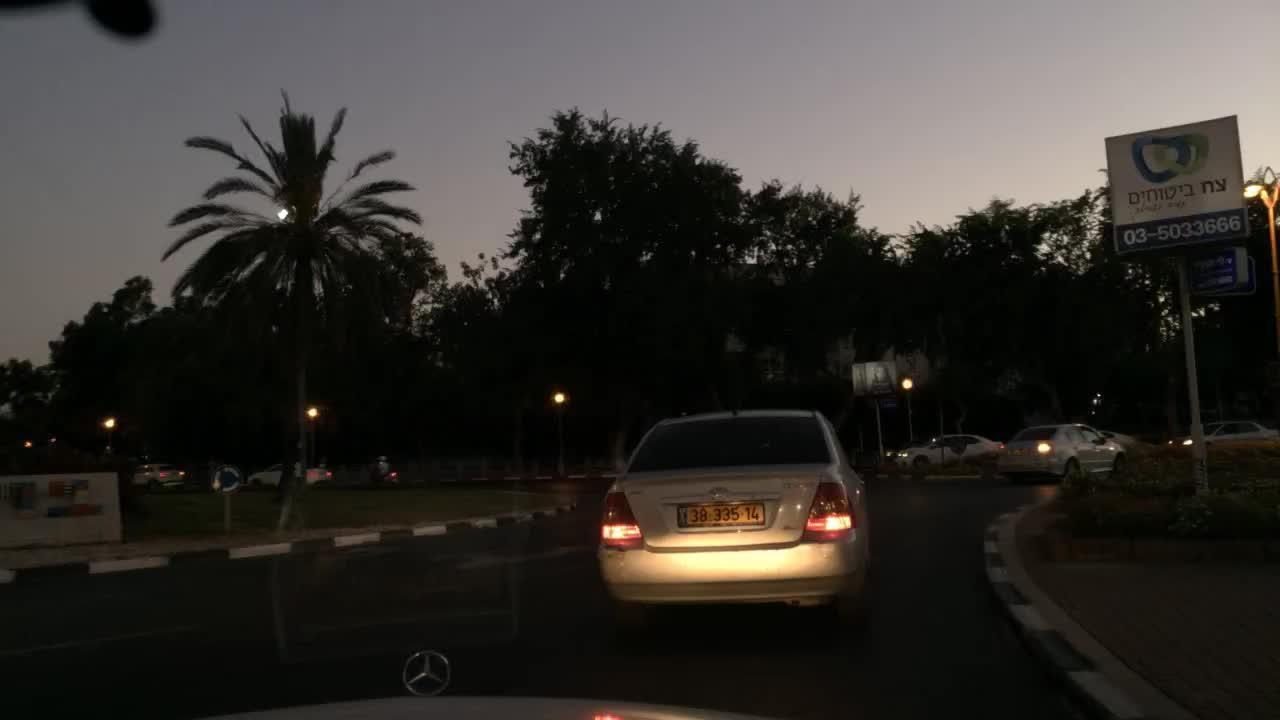Mercedes: (383, 633, 461, 701)
